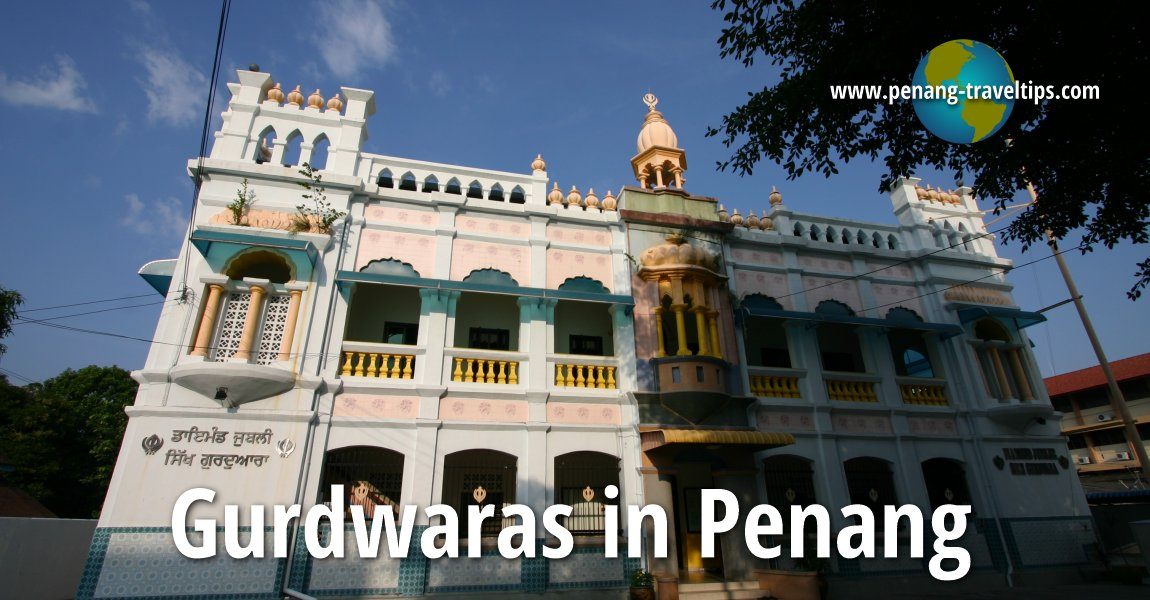Gurdwara: (130, 34, 1053, 552)
